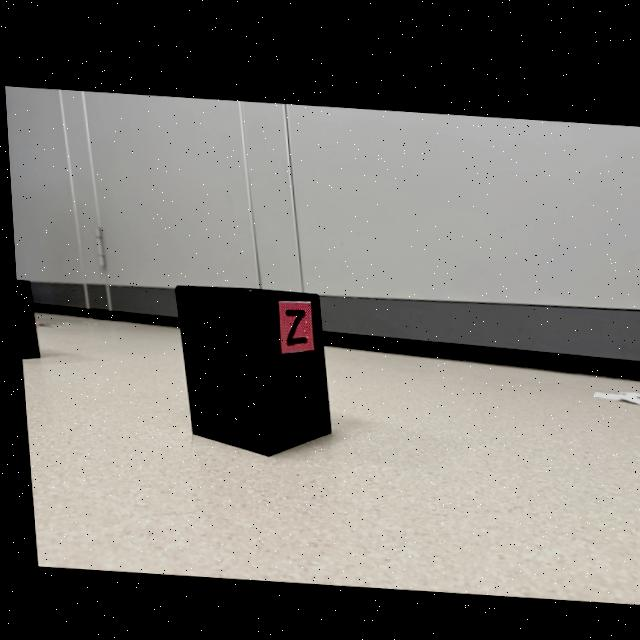Z: (281, 306, 302, 339)
